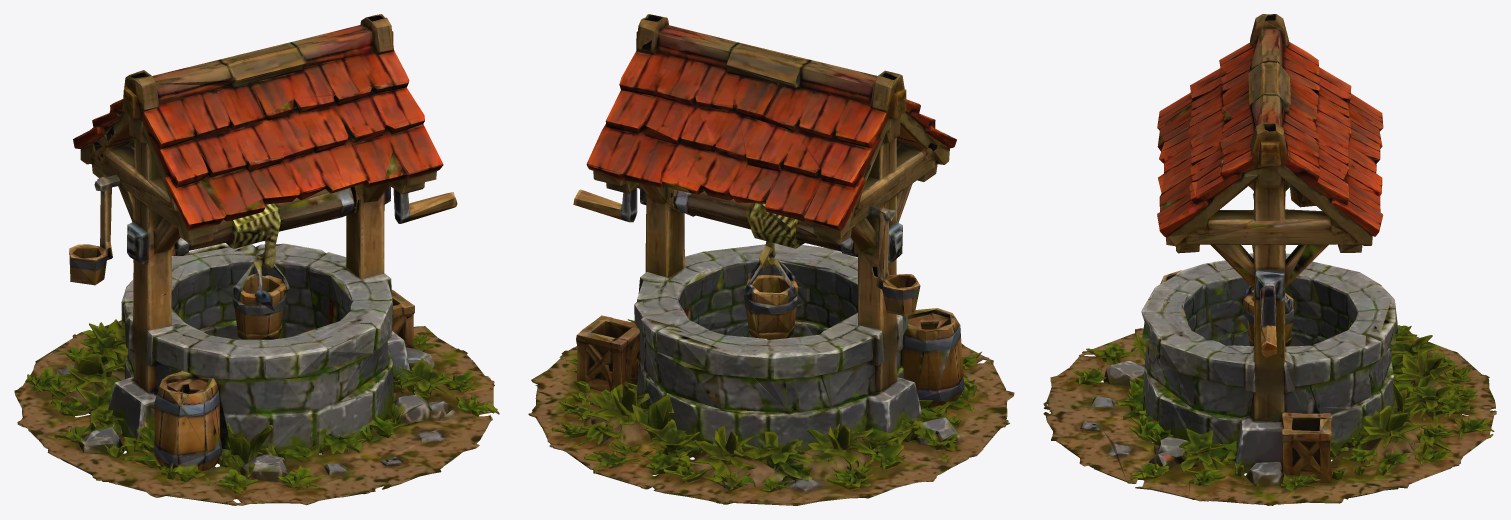
The model's file is villageWell.glb.
3 renders of one model, left to right at view 1: azimuth 30°, elevation 25°; view 2: azimuth 150°, elevation 25°; view 3: azimuth 270°, elevation 25°, orthographic. The views are drawn at different scales.
Visible parts, largest first — view 1: geometry_0; view 2: geometry_0; view 3: geometry_0.
Boxes of the visible parts, x1,y1,x2,y2 form: geometry_0: (14,14,499,505); geometry_0: (528,14,1014,505); geometry_0: (1043,14,1496,505).
Bounding box in the file's own units: 0.9997 × 0.8299 × 0.9954.
Materials: 1 (1 with a texture image).
